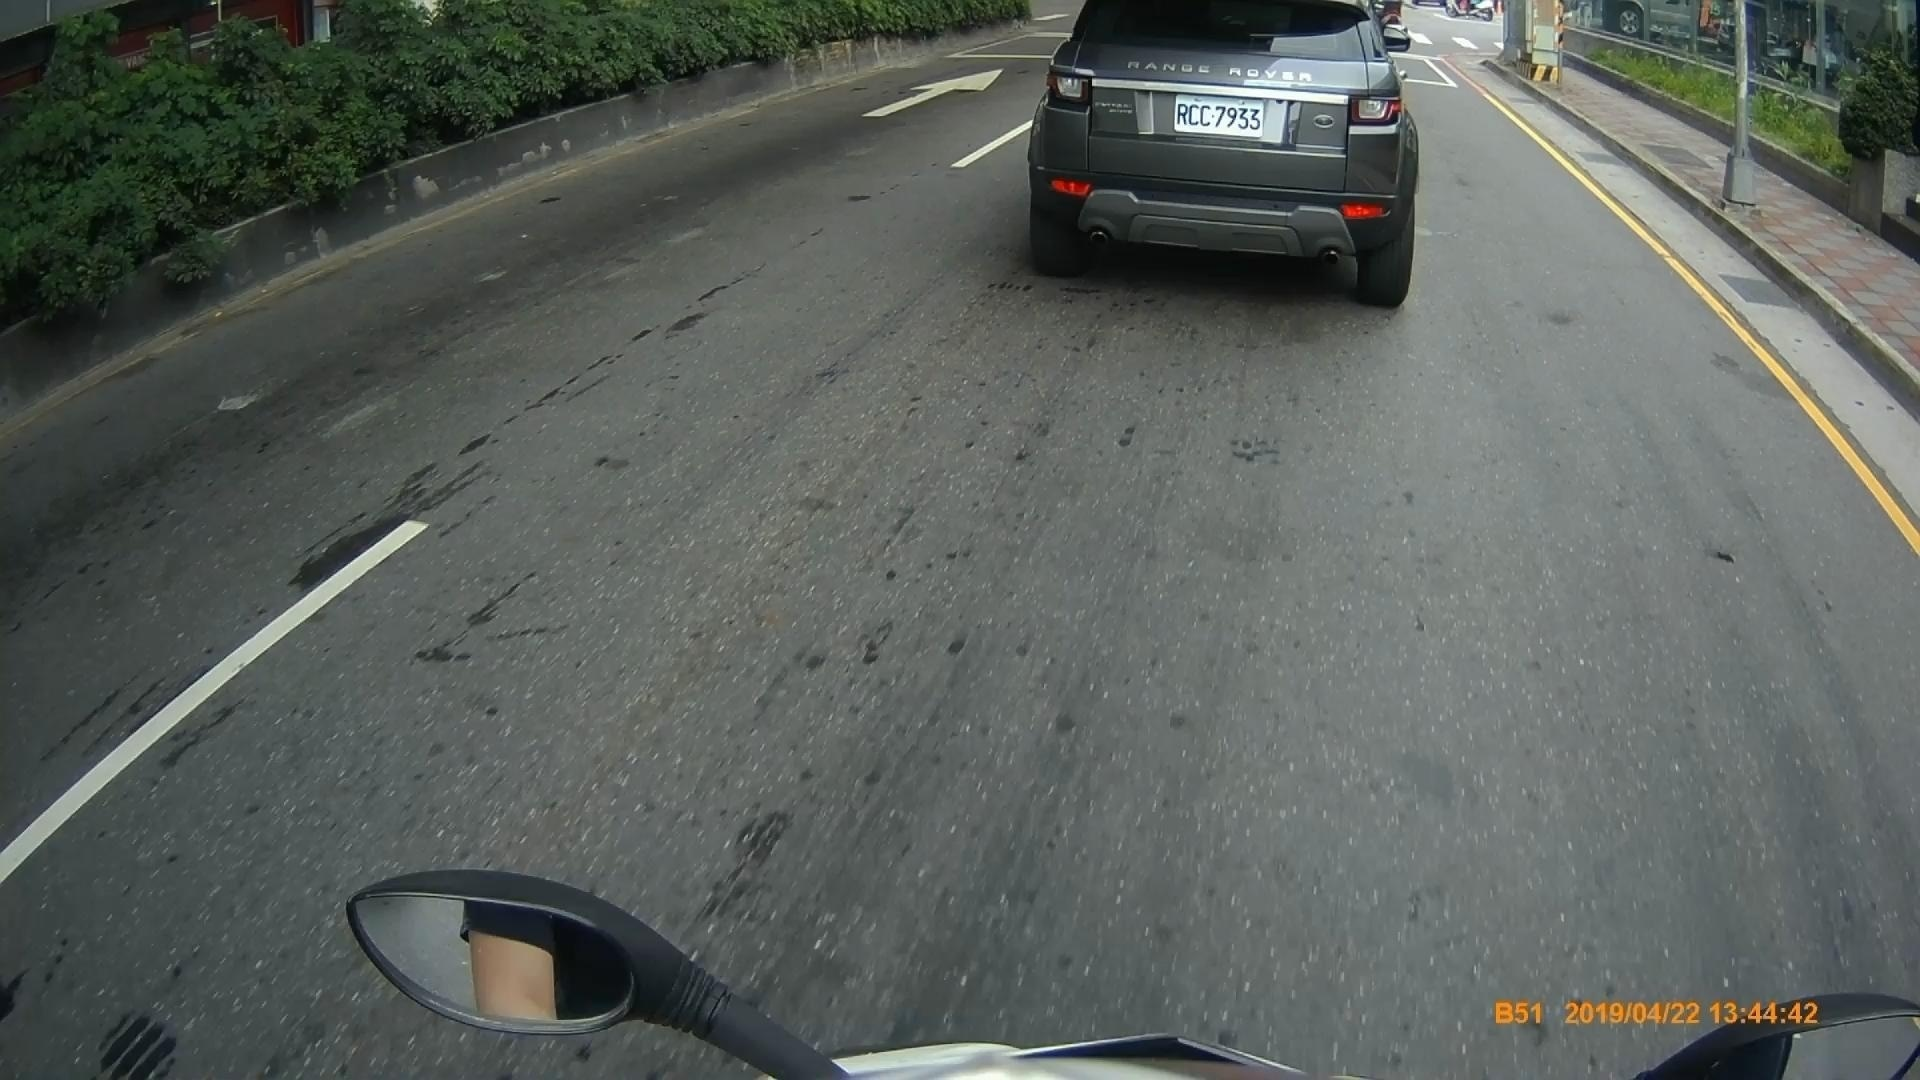License_plate: (1173, 91, 1273, 138)
